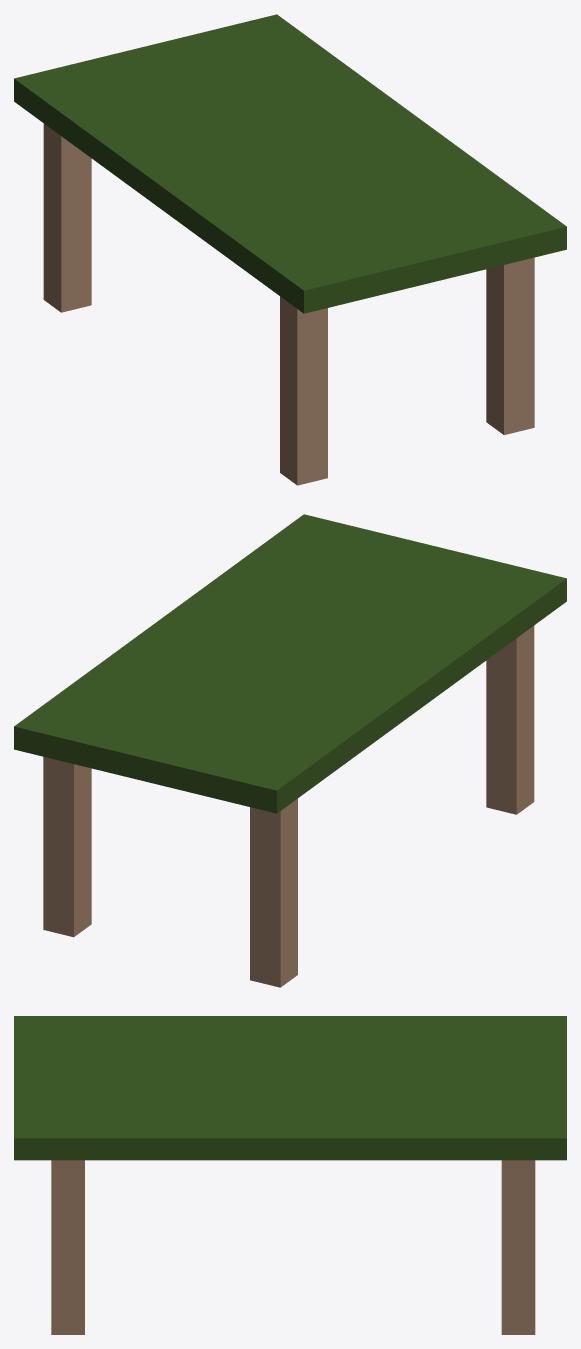
Rendered from bench2.fbx.
The picture shows the model from 3 angles, top to bottom: view 1: azimuth 30°, elevation 25°; view 2: azimuth 150°, elevation 25°; view 3: azimuth 270°, elevation 25°; orthographic projection. The views are drawn at different scales.
Visible parts, largest first — view 1: Cube.001, Cube.004; view 2: Cube.001, Cube.004; view 3: Cube.001, Cube.004.
Boxes of the visible parts, bbox=[...] form: Cube.001: bbox=[14, 14, 566, 313]; Cube.004: bbox=[43, 123, 534, 485]; Cube.001: bbox=[14, 514, 566, 813]; Cube.004: bbox=[43, 625, 534, 987]; Cube.001: bbox=[14, 1016, 566, 1160]; Cube.004: bbox=[51, 1160, 535, 1334].
Size of the model in its own units: 177 by 136 by 338.
